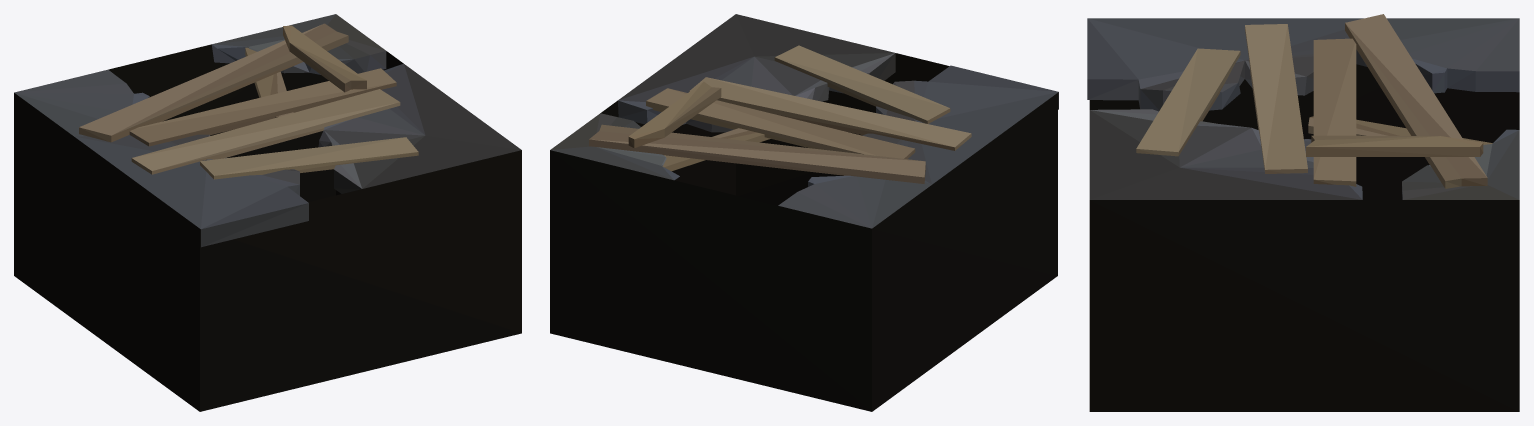
Rendered from floor_plain_4m_5.fbx.
3 views of the same model, side by side, from view 1: azimuth 30°, elevation 25°; view 2: azimuth 150°, elevation 25°; view 3: azimuth 270°, elevation 25° (orthographic). The views are drawn at different scales.
Visible parts, largest first — view 1: floor_plain_4m_5; view 2: floor_plain_4m_5; view 3: floor_plain_4m_5.
Part boxes in pixels (bbox=[...]): floor_plain_4m_5: bbox=[14, 14, 521, 411]; floor_plain_4m_5: bbox=[550, 14, 1058, 411]; floor_plain_4m_5: bbox=[1087, 14, 1519, 411].
Size of the model in its own units: 4 by 2.37 by 4.02.
